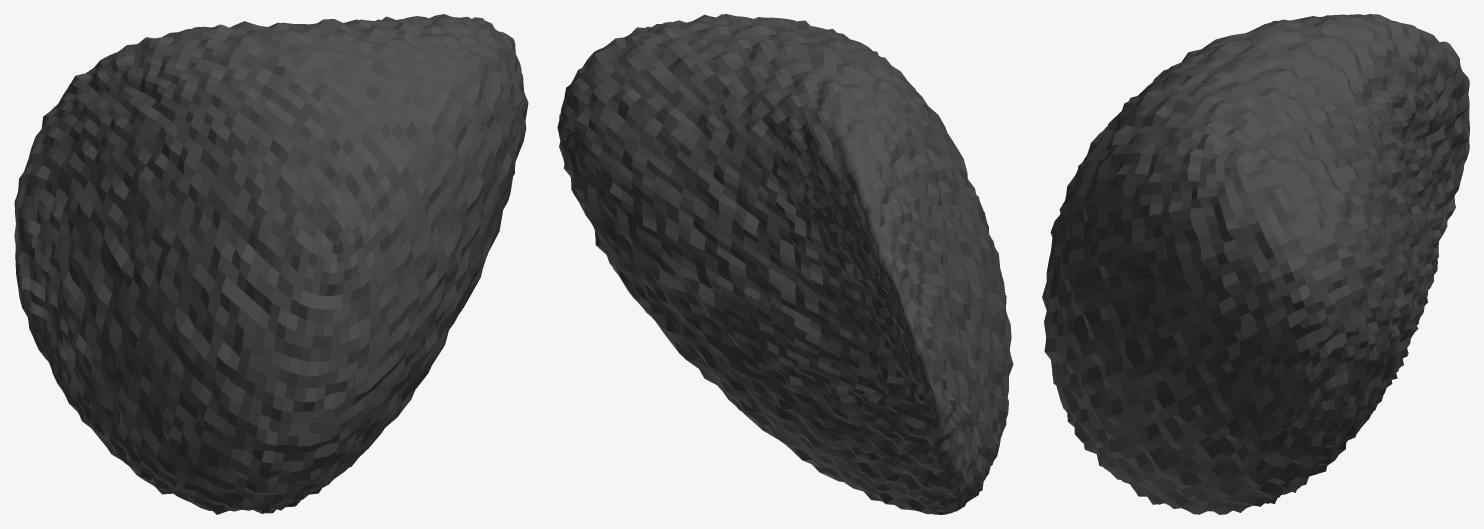
File: rock2.fbx
The picture shows the model from 3 angles, left to right: view 1: azimuth 30°, elevation 25°; view 2: azimuth 150°, elevation 25°; view 3: azimuth 270°, elevation 25°; orthographic projection. The views are drawn at different scales.
Visible parts, largest first — view 1: Rock 01; view 2: Rock 01; view 3: Rock 01.
Part boxes in pixels (x1=…): Rock 01: x1=14, y1=14, x2=528, y2=514; Rock 01: x1=557, y1=14, x2=1013, y2=514; Rock 01: x1=1042, y1=14, x2=1469, y2=514.
Size of the model in its own units: 3276 by 3141 by 2428.
